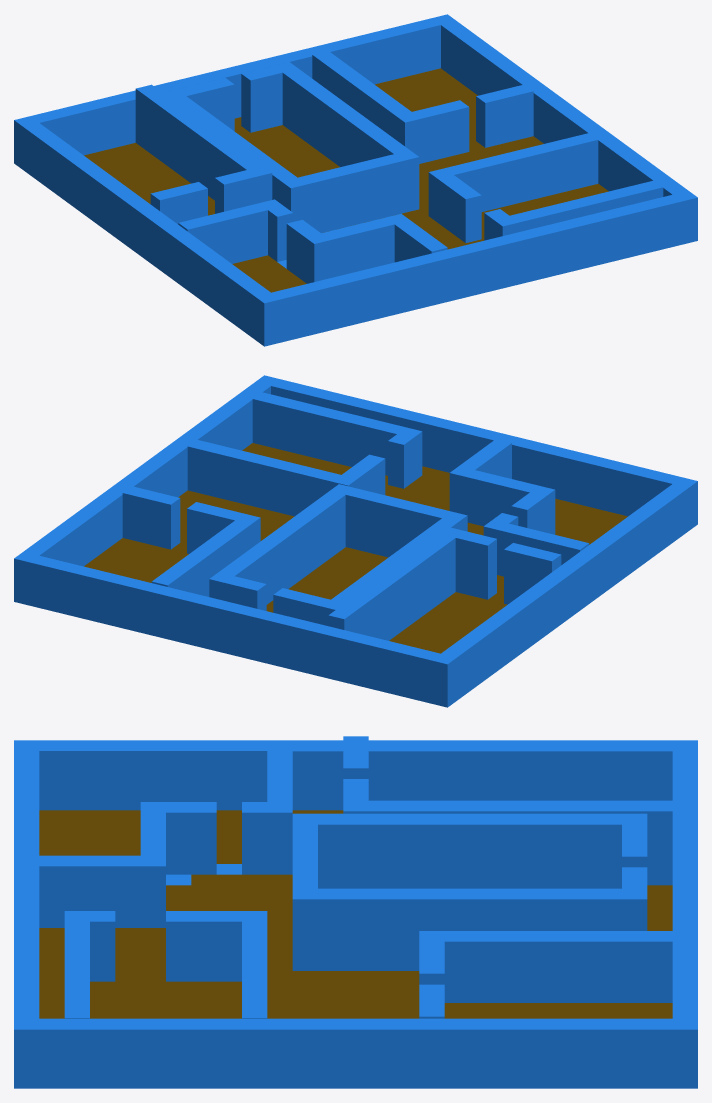
Rendered from 仮ステージ.fbx.
3 renders of one model, top to bottom at view 1: azimuth 30°, elevation 25°; view 2: azimuth 150°, elevation 25°; view 3: azimuth 270°, elevation 25°, orthographic. The views are drawn at different scales.
Parts seen in each view (by area): view 1: 平面, 平面.001; view 2: 平面, 平面.001; view 3: 平面, 平面.001.
Boxes of the visible parts, x1,y1,x2,y2 form: 平面: [14, 14, 697, 346]; 平面.001: [84, 68, 608, 292]; 平面: [14, 375, 697, 707]; 平面.001: [84, 443, 627, 653]; 平面: [14, 736, 697, 1088]; 平面.001: [39, 810, 672, 1018].
Size of the model in its own units: 10000 by 1194 by 10000.
